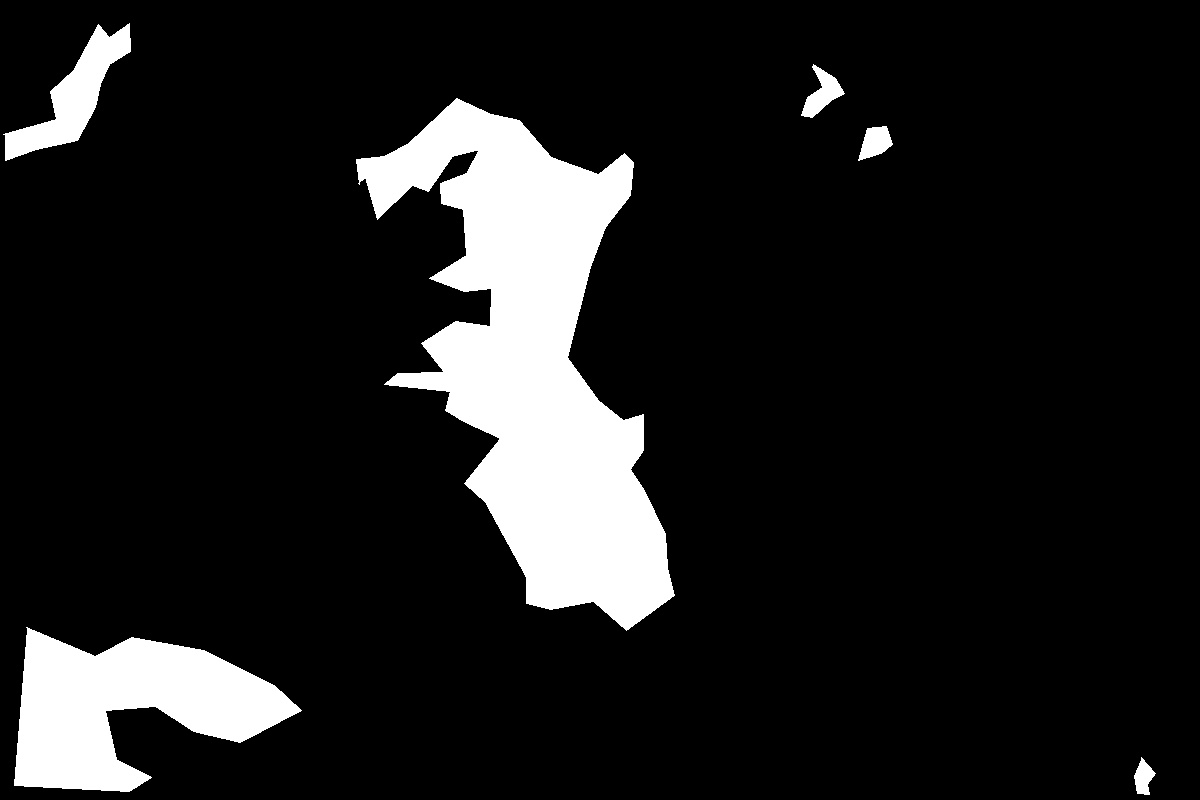Fire: (366, 86, 708, 623)
